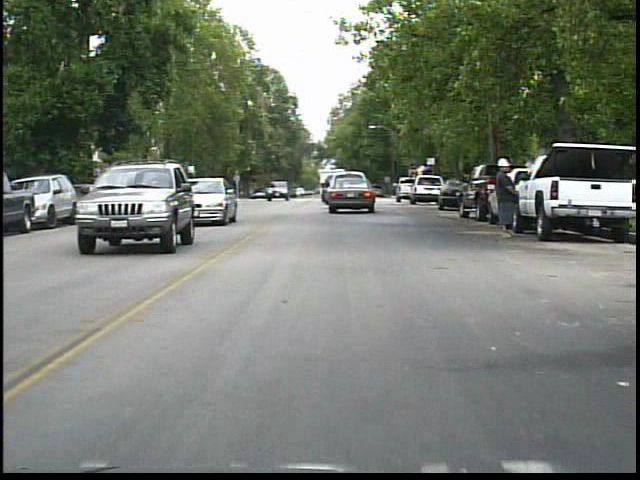person: (491, 154, 522, 241)
